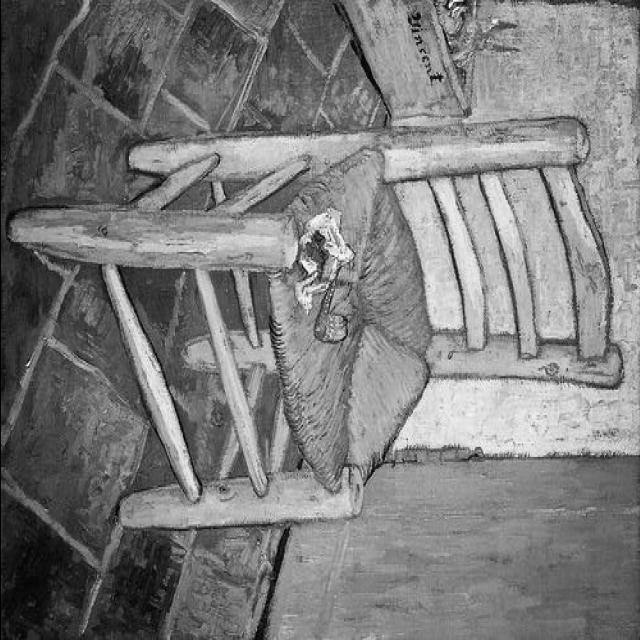chair: (11, 101, 625, 528)
